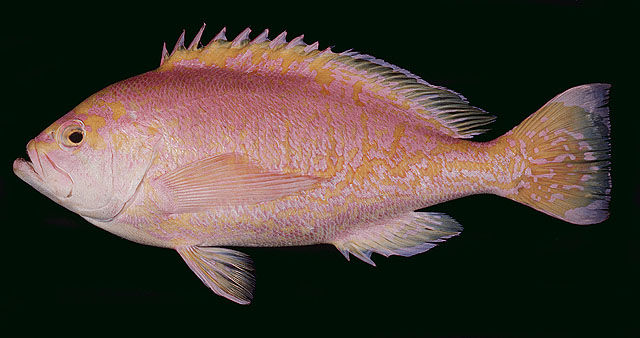fish: (12, 24, 614, 308)
